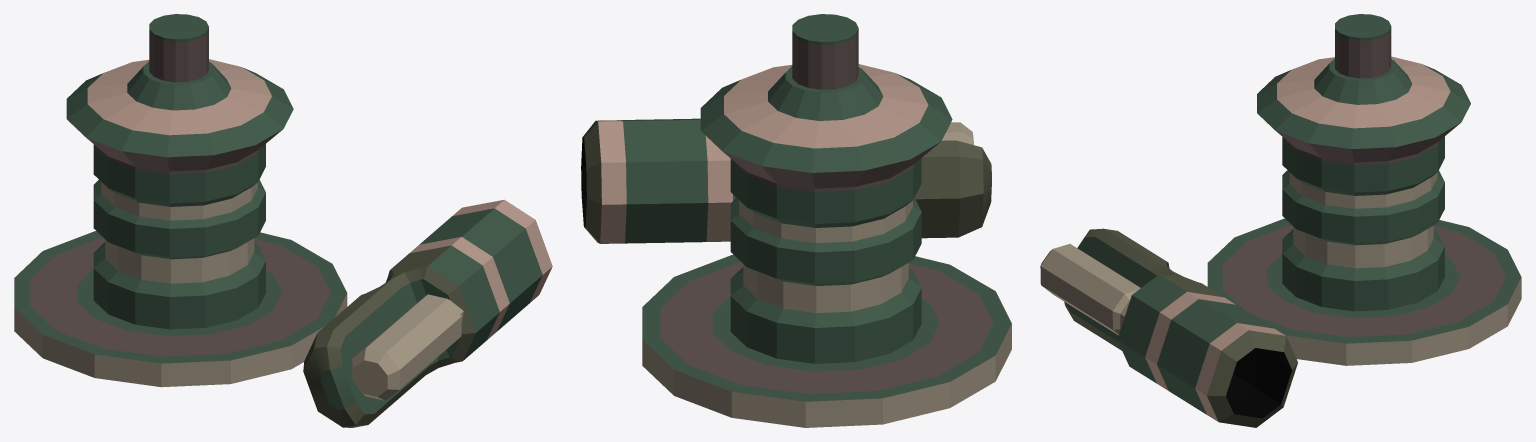
File: NetGunBroken.fbx
3 renders of one model, left to right at view 1: azimuth 30°, elevation 25°; view 2: azimuth 150°, elevation 25°; view 3: azimuth 270°, elevation 25°, orthographic. The views are drawn at different scales.
Parts seen in each view (by area): view 1: Cylinder, Cube; view 2: Cylinder, Cube; view 3: Cylinder, Cube.
Part boxes in pixels (left/top/right/bottom): Cylinder: left=14, top=14, right=347, bottom=387; Cube: left=303, top=199, right=552, bottom=427; Cylinder: left=642, top=14, right=1011, bottom=427; Cube: left=581, top=118, right=991, bottom=243; Cylinder: left=1207, top=14, right=1521, bottom=365; Cube: left=1040, top=228, right=1297, bottom=427.
Size of the model in its own units: 2.44 by 1.6 by 2.46.
